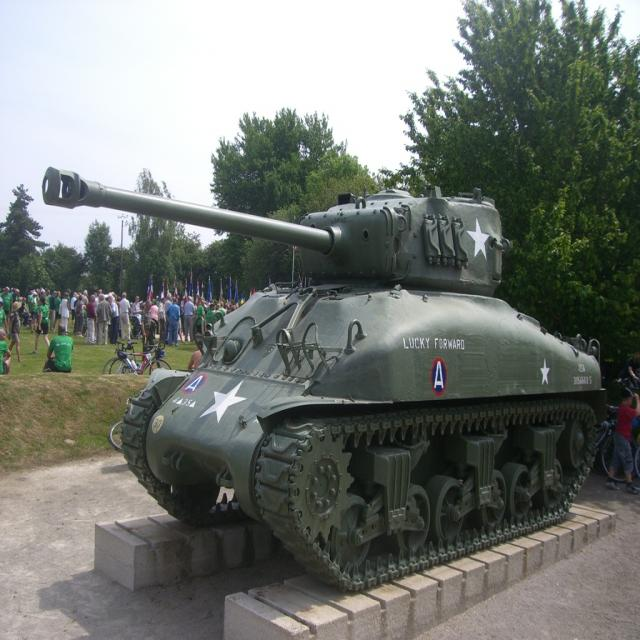tank: (41, 161, 606, 596)
